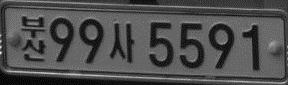1: (240, 24, 268, 70)
5: (148, 21, 174, 66), (179, 22, 204, 68)
9: (208, 22, 234, 69), (49, 16, 74, 62), (79, 18, 103, 63)
부산_V: (20, 15, 45, 61)
사: (110, 22, 135, 62)
